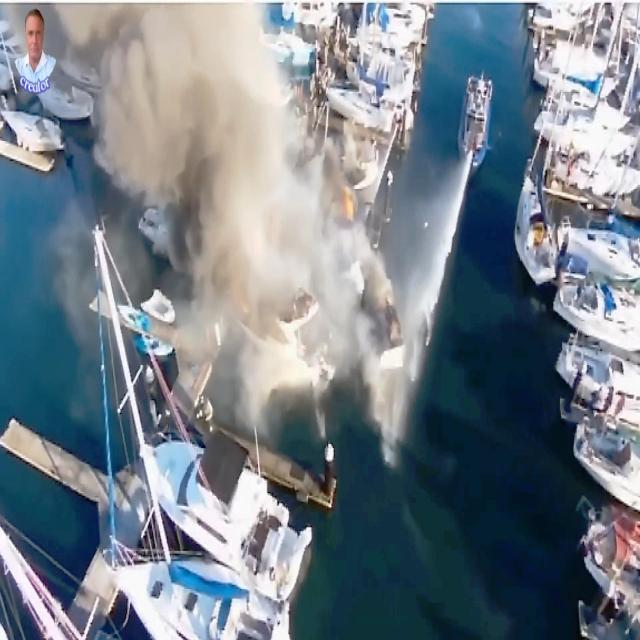Smoke: (65, 2, 405, 443)
